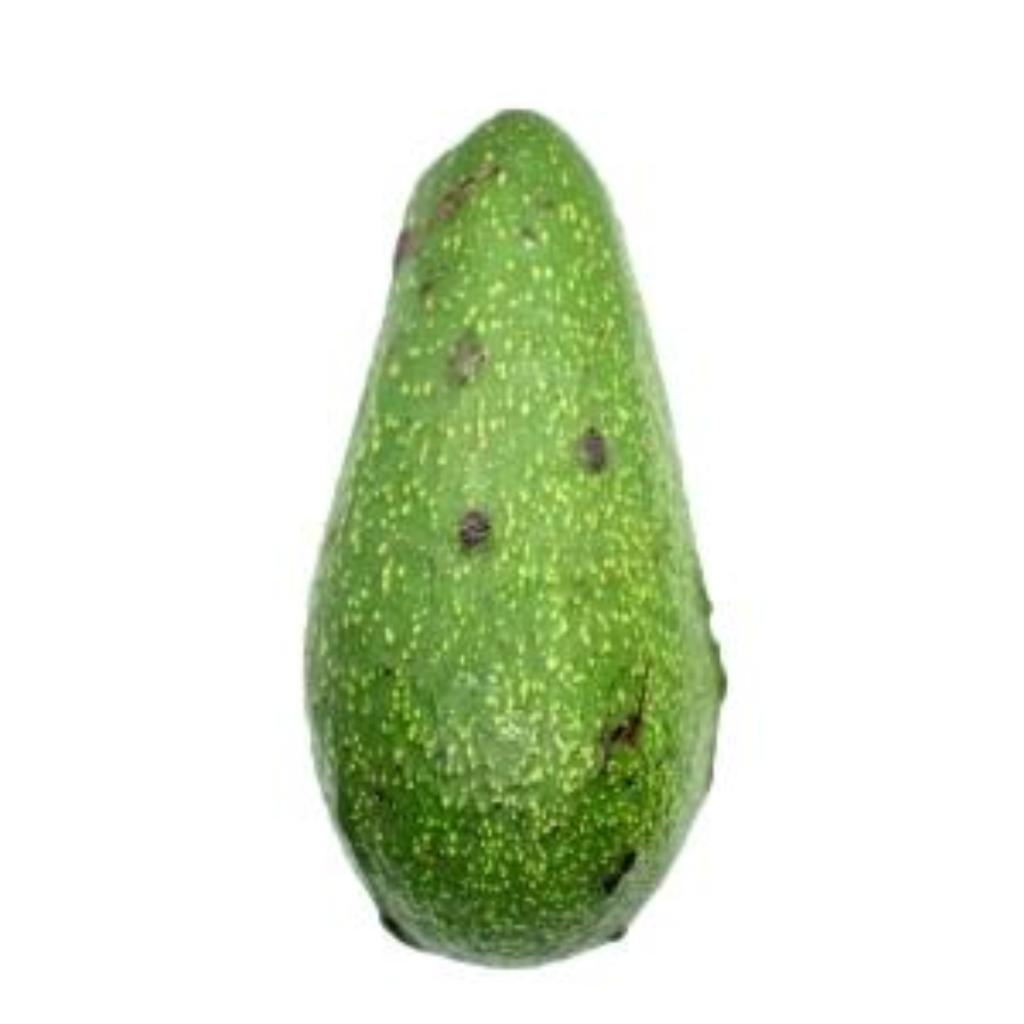cercospora: (302, 85, 766, 979)
